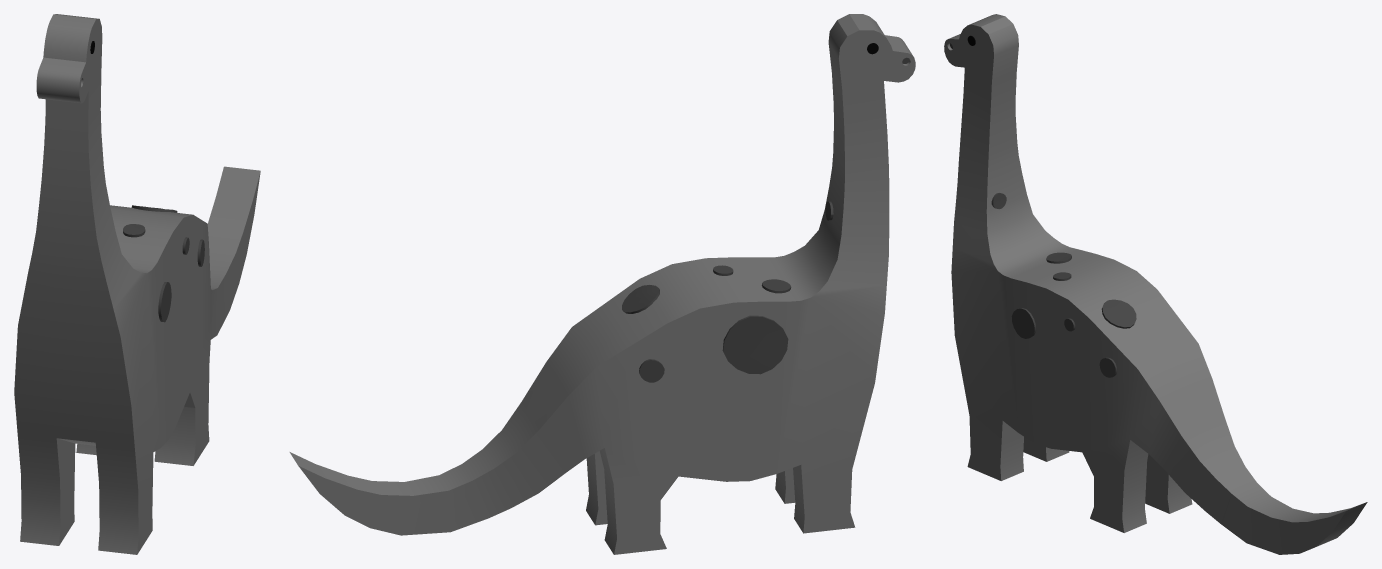
Rendered from sauropod.glb.
The picture shows the model from 3 angles, left to right: view 1: azimuth 30°, elevation 25°; view 2: azimuth 150°, elevation 25°; view 3: azimuth 270°, elevation 25°; orthographic projection. The views are drawn at different scales.
Visible parts, largest first — view 1: Plane.164; view 2: Plane.164; view 3: Plane.164.
Boxes of the visible parts, box(x1,y1,x2,y2) form: Plane.164: box(14, 14, 260, 554); Plane.164: box(289, 14, 915, 554); Plane.164: box(944, 14, 1367, 554).
Bounding box in the file's own units: 1.91 × 2.13 × 1.91.
1 material, 1 textured.
